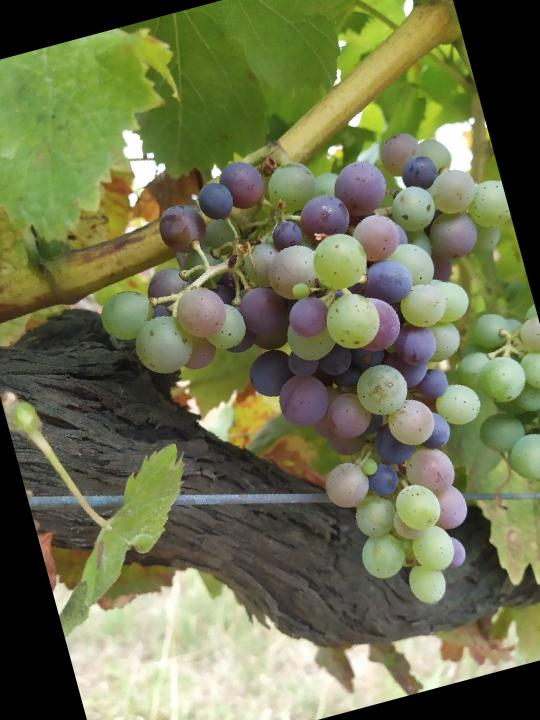grape: (68, 94, 540, 672)
